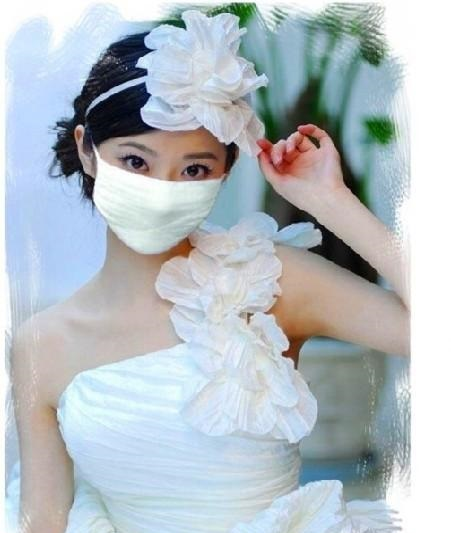face_mask: (93, 107, 226, 256)
